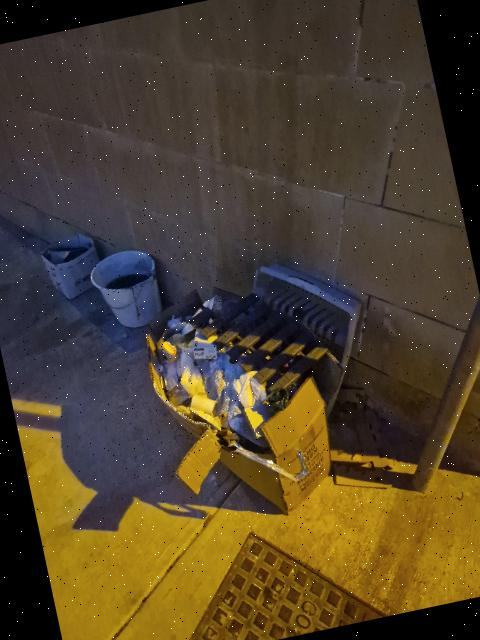Other: (147, 289, 332, 512), (253, 263, 361, 373), (91, 250, 162, 327), (41, 234, 99, 299)
